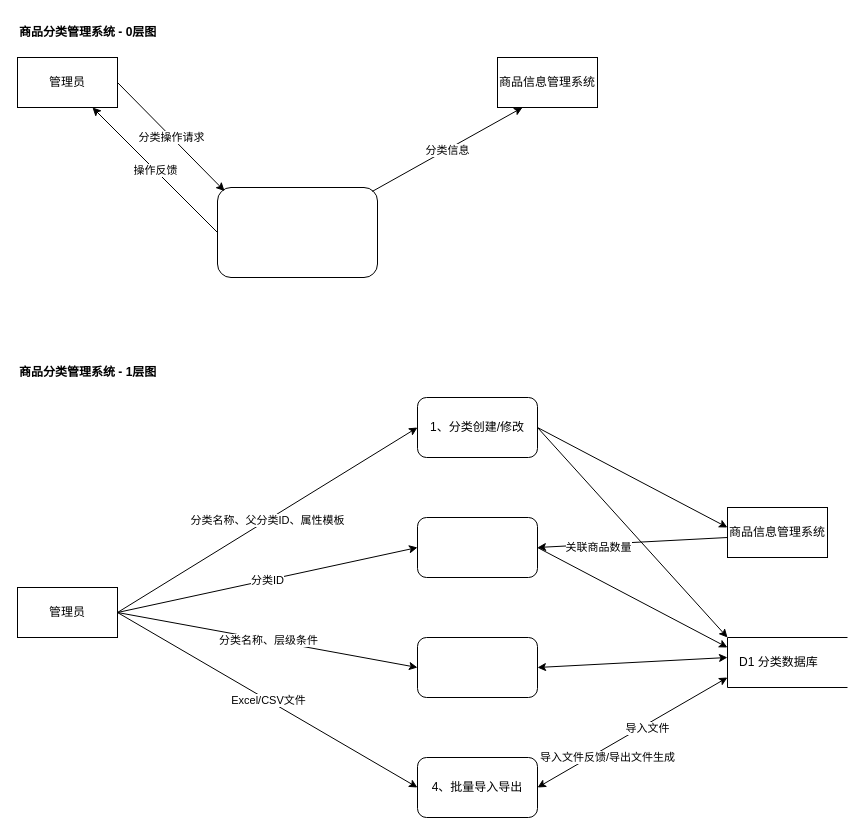
Some shapes in this 866 by 835 pixel diagram are drawn without their labels. Here are the shapes that lost their labels. From the top down, the centre of each, then its label:
At (x=297, y=232): "商品分类管理系统".
At (x=477, y=547): "2、分类删除".
At (x=477, y=667): "3、分类查询".
